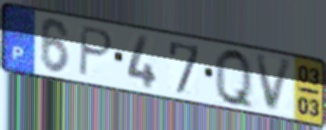4: (125, 32, 160, 92)
6: (38, 17, 74, 76)
7: (166, 40, 202, 96)
P: (76, 24, 116, 79)
Q: (213, 45, 256, 113)
V: (253, 53, 296, 113)
